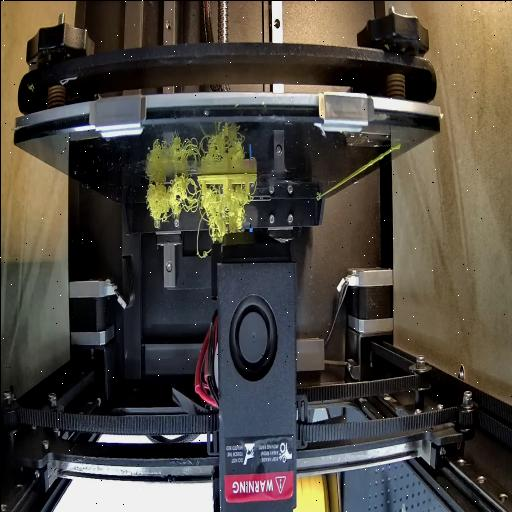spaghetti: (194, 188, 250, 262), (143, 172, 195, 224)
